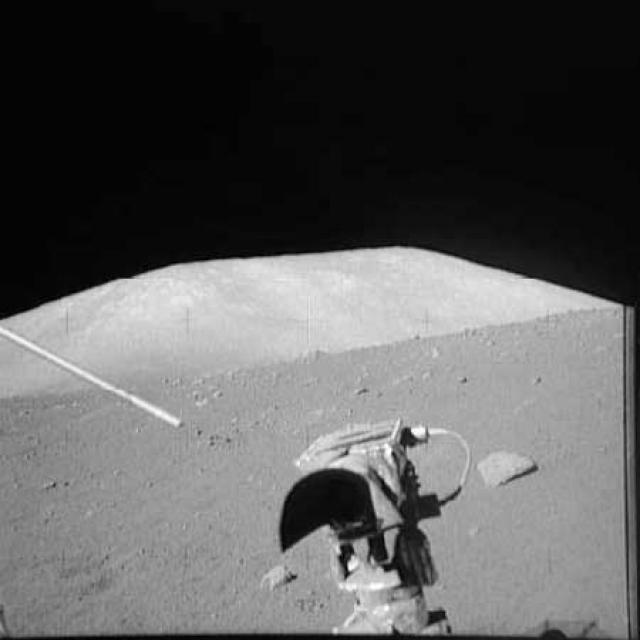artifact: (270, 412, 478, 640), (0, 316, 190, 434)
rock: (479, 440, 539, 489), (252, 554, 298, 591)
